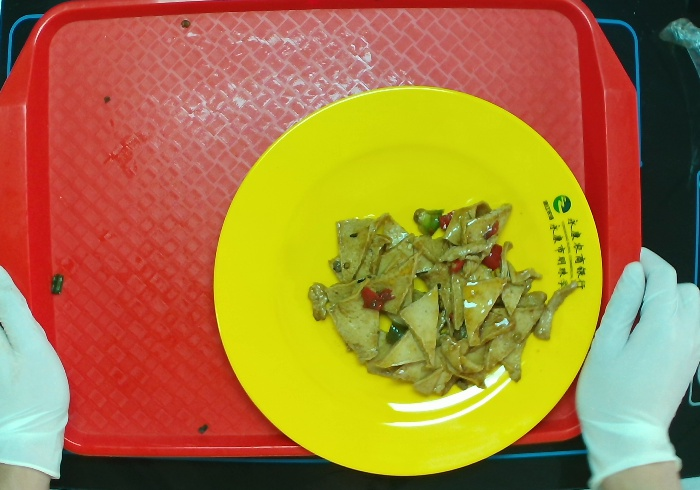YKMZ-Huang_Se_Mian_Pan: (194, 77, 614, 481)
